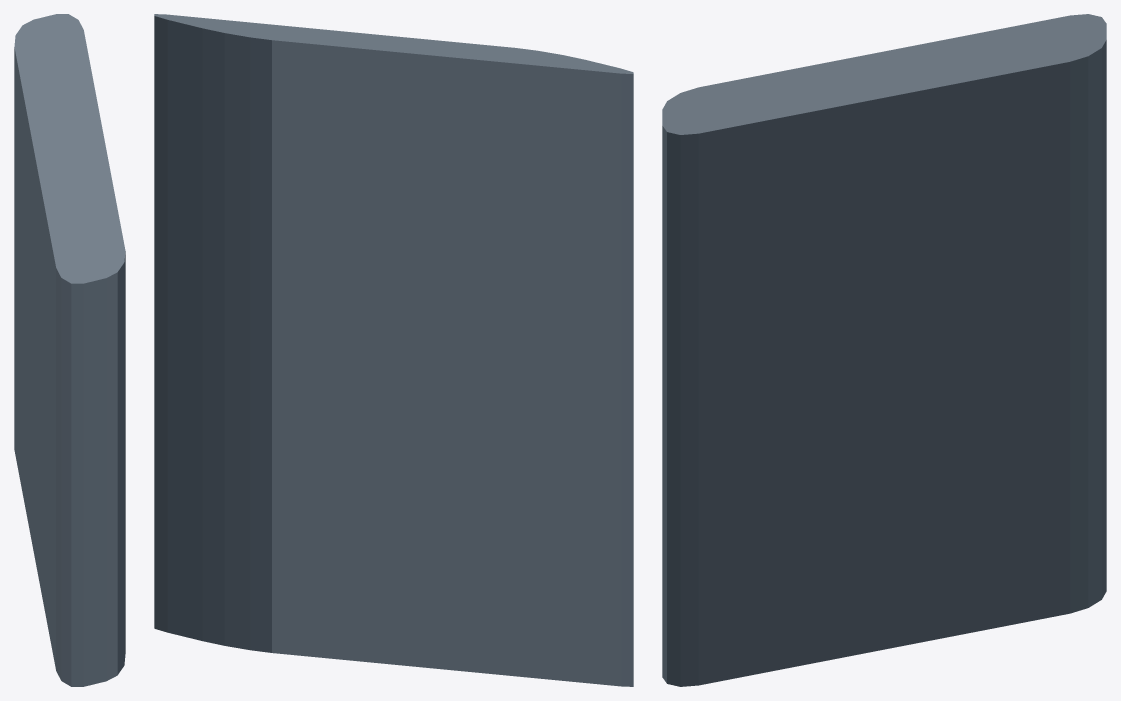
Rendered from Bridge_Anchor.gltf.
3 renders of one model, left to right at view 1: azimuth 30°, elevation 25°; view 2: azimuth 150°, elevation 25°; view 3: azimuth 270°, elevation 25°, orthographic. The views are drawn at different scales.
Visible parts, largest first — view 1: Bridge_Anchor_baked; view 2: Bridge_Anchor_baked; view 3: Bridge_Anchor_baked.
Boxes of the visible parts, box(x1,y1,x2,y2) form: Bridge_Anchor_baked: box(14, 14, 125, 686); Bridge_Anchor_baked: box(154, 14, 633, 686); Bridge_Anchor_baked: box(662, 14, 1106, 686).
Size of the model in its own units: 0.4319 by 1.29 by 0.73.
